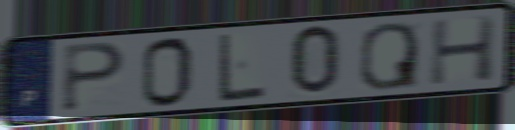0: (286, 22, 345, 100), (139, 34, 199, 108)
H: (427, 13, 499, 88)
L: (217, 31, 268, 104)
P: (58, 40, 129, 114)
Q: (357, 20, 421, 92)
